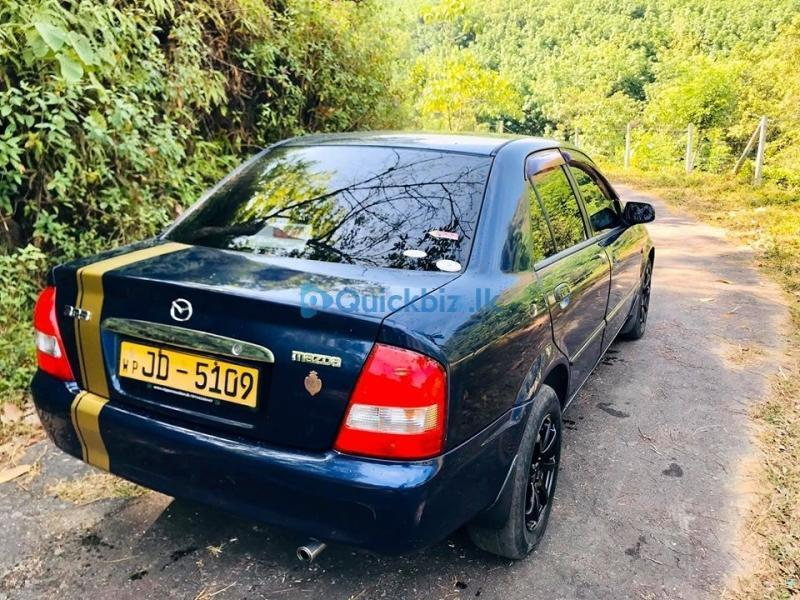license-plate: (112, 337, 257, 417)
